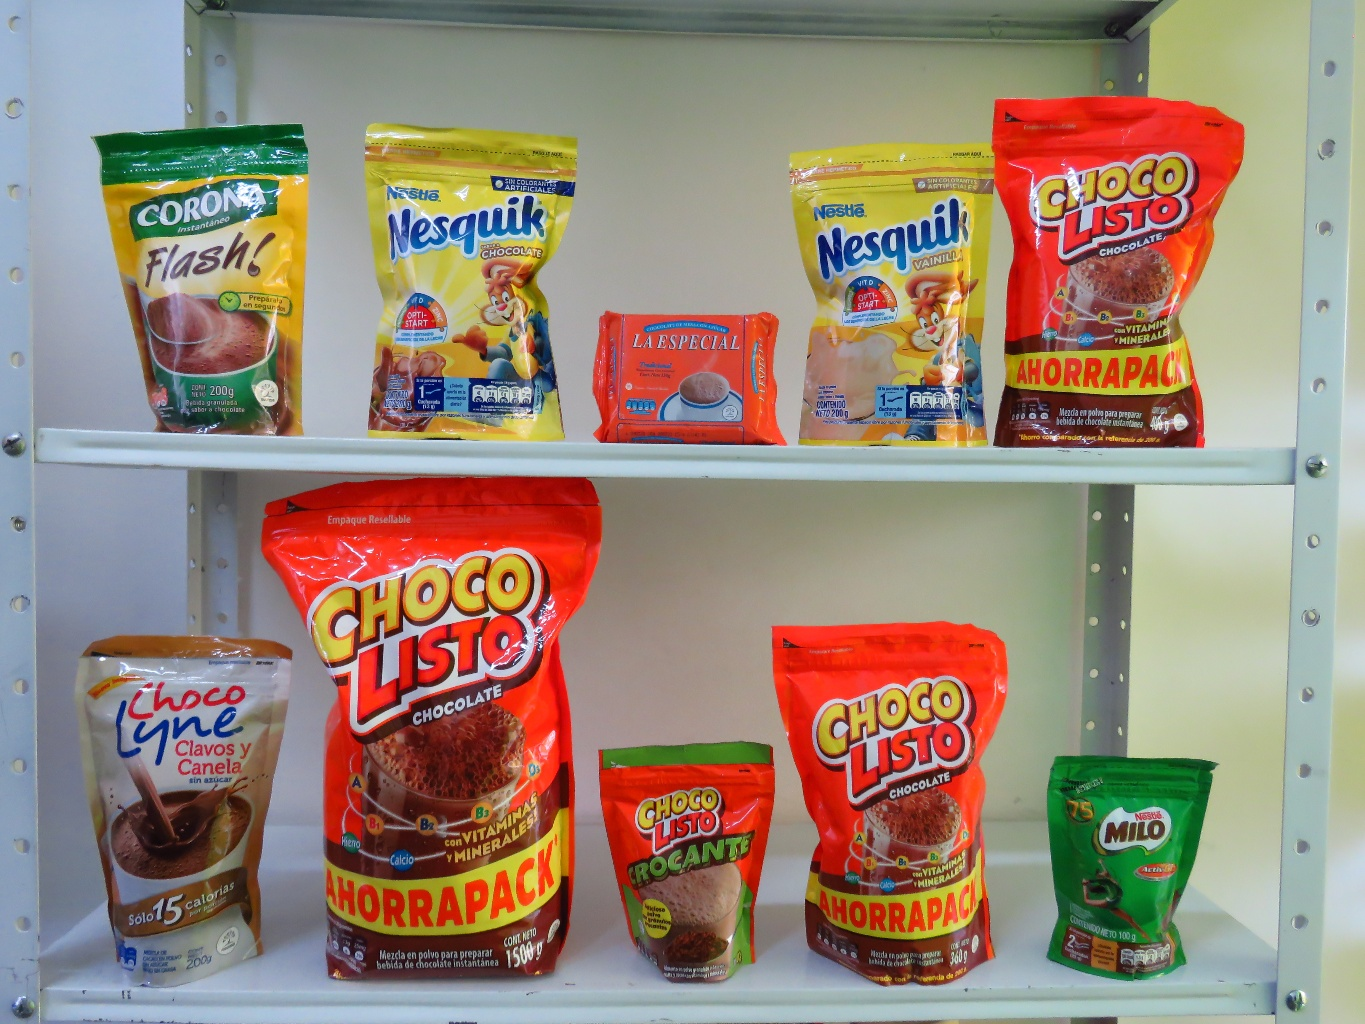COL0170102DYP10000: (575, 733, 802, 994)
COL0170103DYP1,500: (240, 458, 597, 1000)
COL0170103DYP36000: (754, 607, 1026, 989)
COL0170103DYP40000: (984, 83, 1259, 456)
COL0170203DYP10000: (1030, 737, 1236, 991)
COL0170303DYP20000: (332, 105, 603, 454)
COL0170306DYP20000: (773, 125, 1030, 447)
